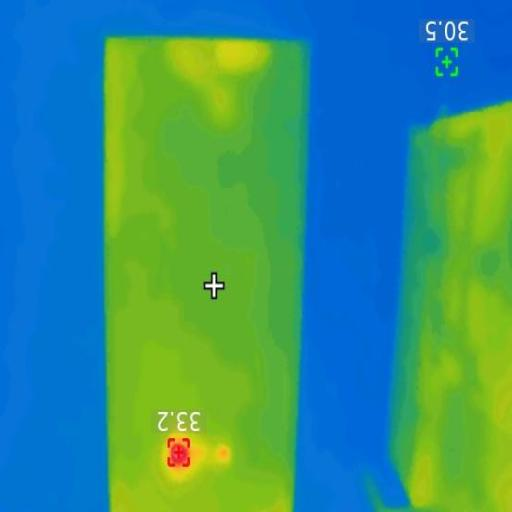hotspot: (166, 439, 187, 468)
